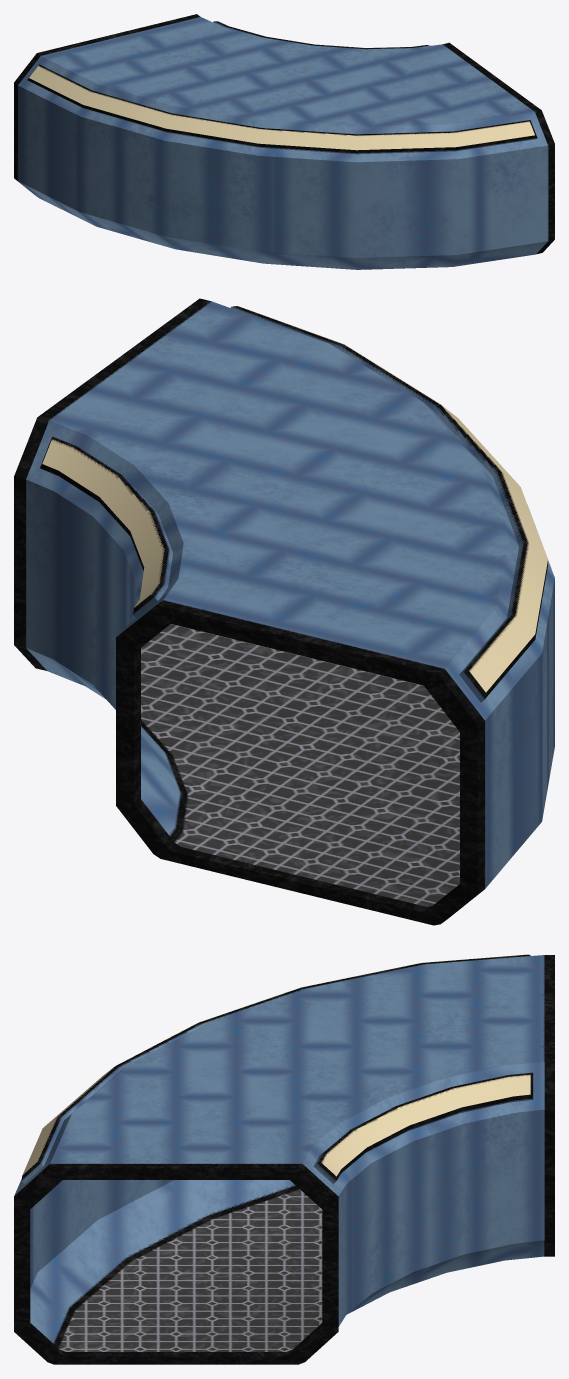
The model's file is Hall - Curve_Light -  Texture.gltf.
3 views of the same model, one above another, from view 1: azimuth 30°, elevation 25°; view 2: azimuth 150°, elevation 25°; view 3: azimuth 270°, elevation 25° (orthographic). The views are drawn at different scales.
Visible parts, largest first — view 1: Corner_L; view 2: Corner_L; view 3: Corner_L.
Part boxes in pixels (x1,y1,x2,y2): Corner_L: [14, 14, 554, 269]; Corner_L: [14, 298, 554, 925]; Corner_L: [14, 954, 554, 1364].
Size of the model in its own units: 5 by 2 by 5.
1 material, 1 textured.
